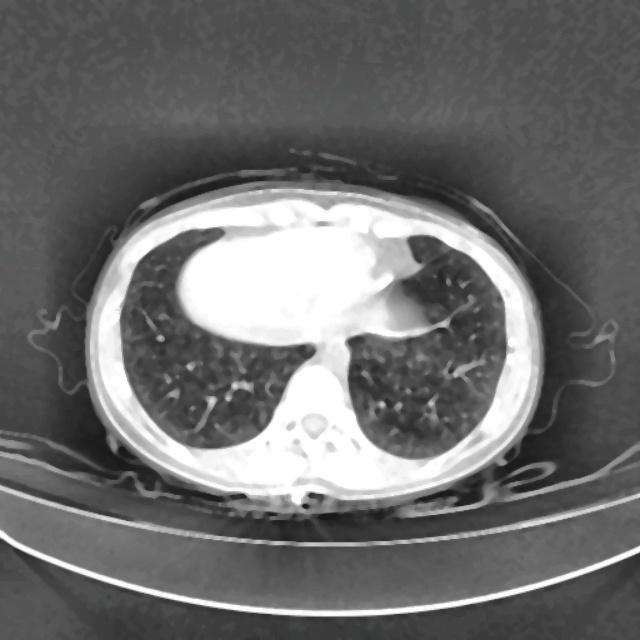covid: (82, 166, 547, 517)
